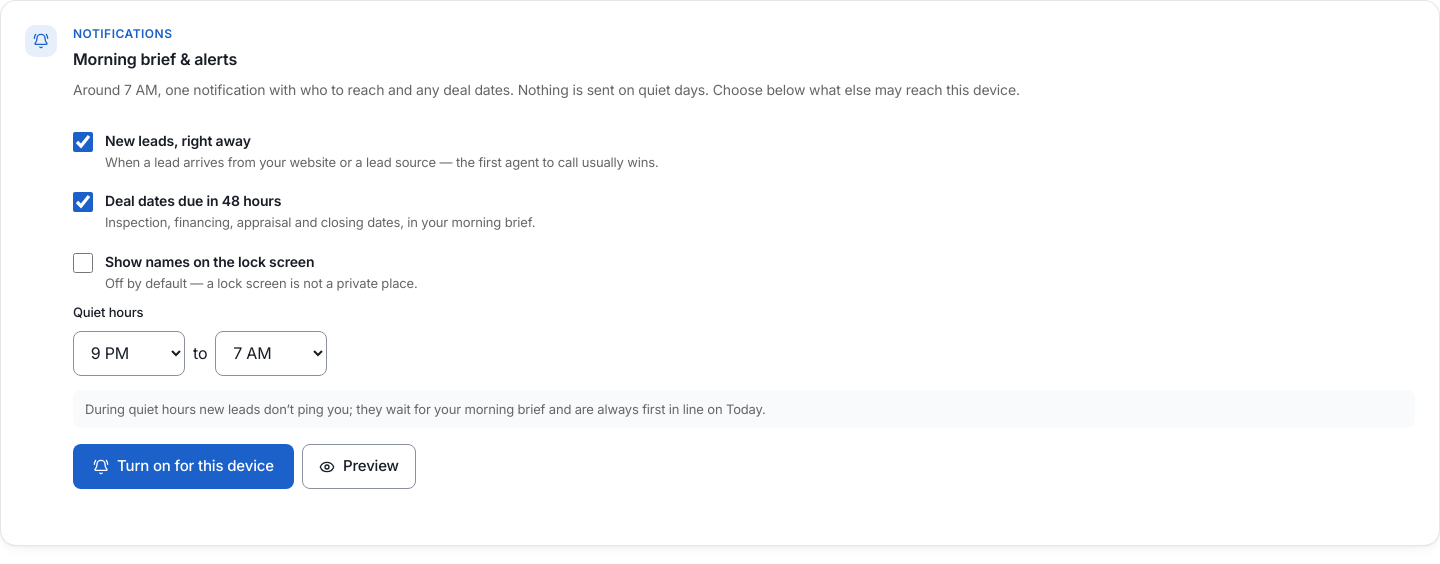
Test: MorningBriefSettings › does not subscribe before the workspace has notification keys
Click the button "Turn on for this device". click: [184, 467]
box: [73, 444, 294, 489]
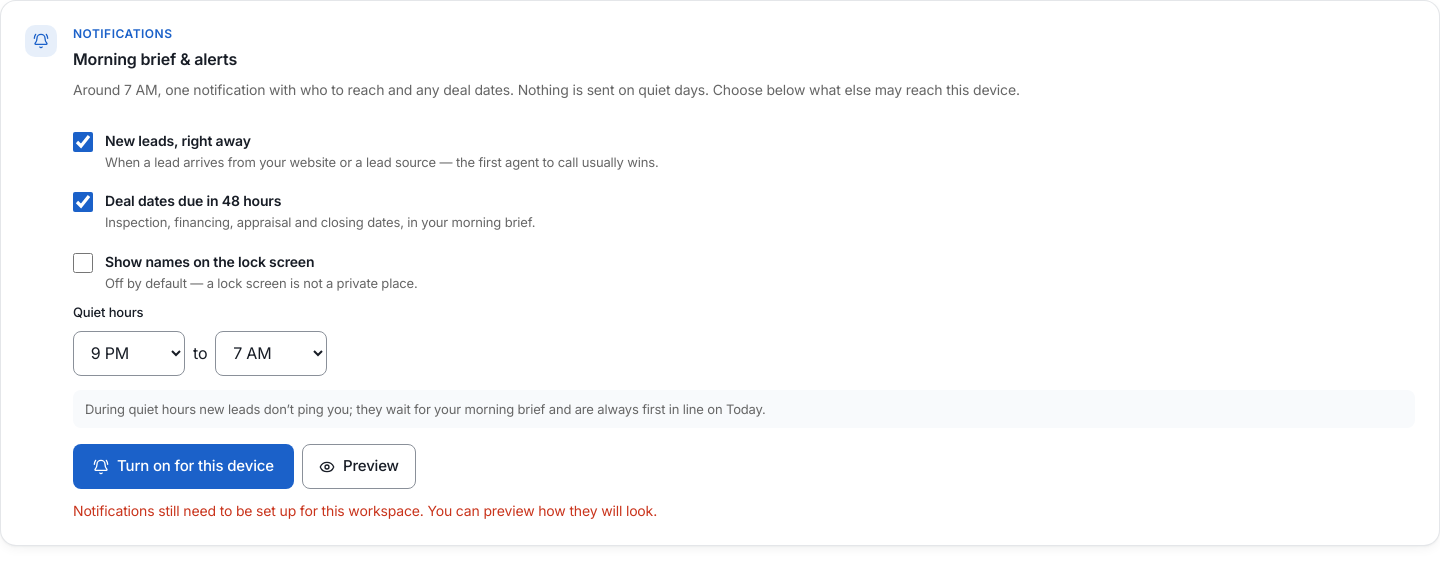
Check: the text "still need to be set up" is shown, box [73, 502, 657, 519]
